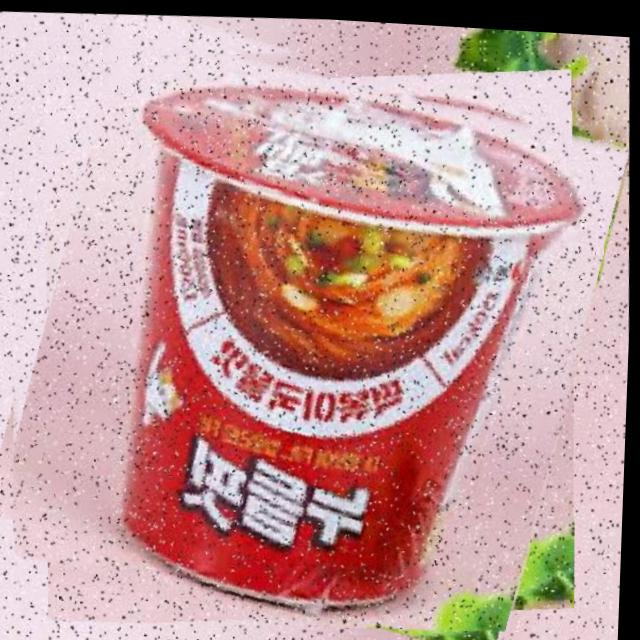Miscellaneous: (0, 5, 623, 640)
